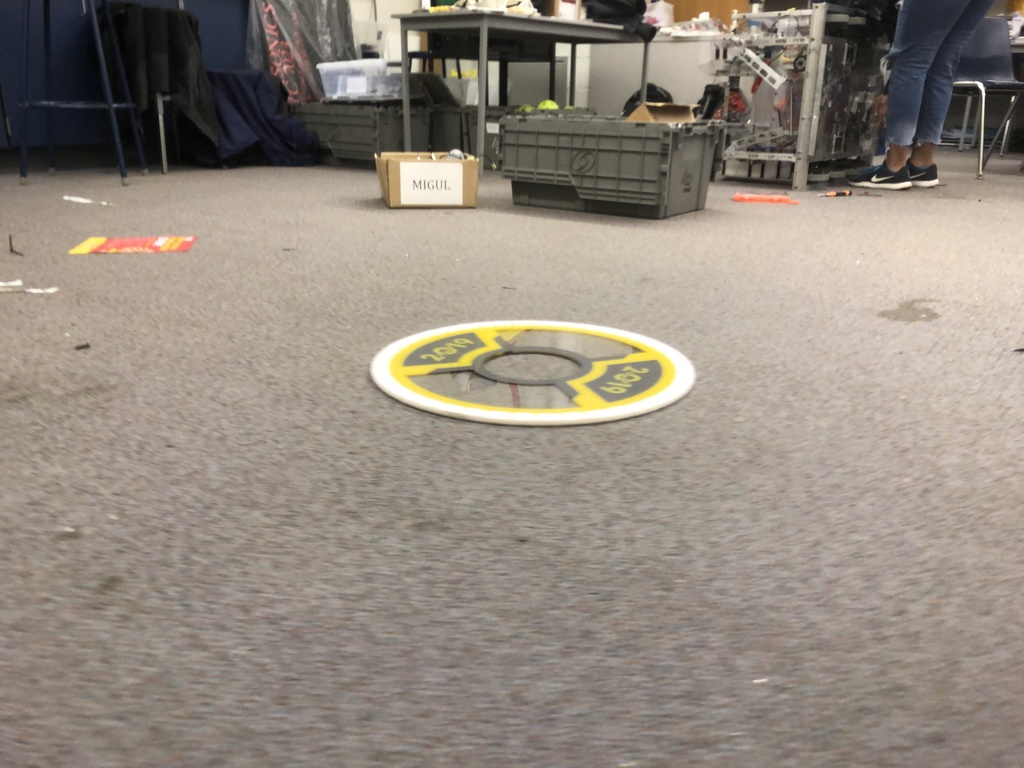hatch_panel: (362, 309, 715, 432)
